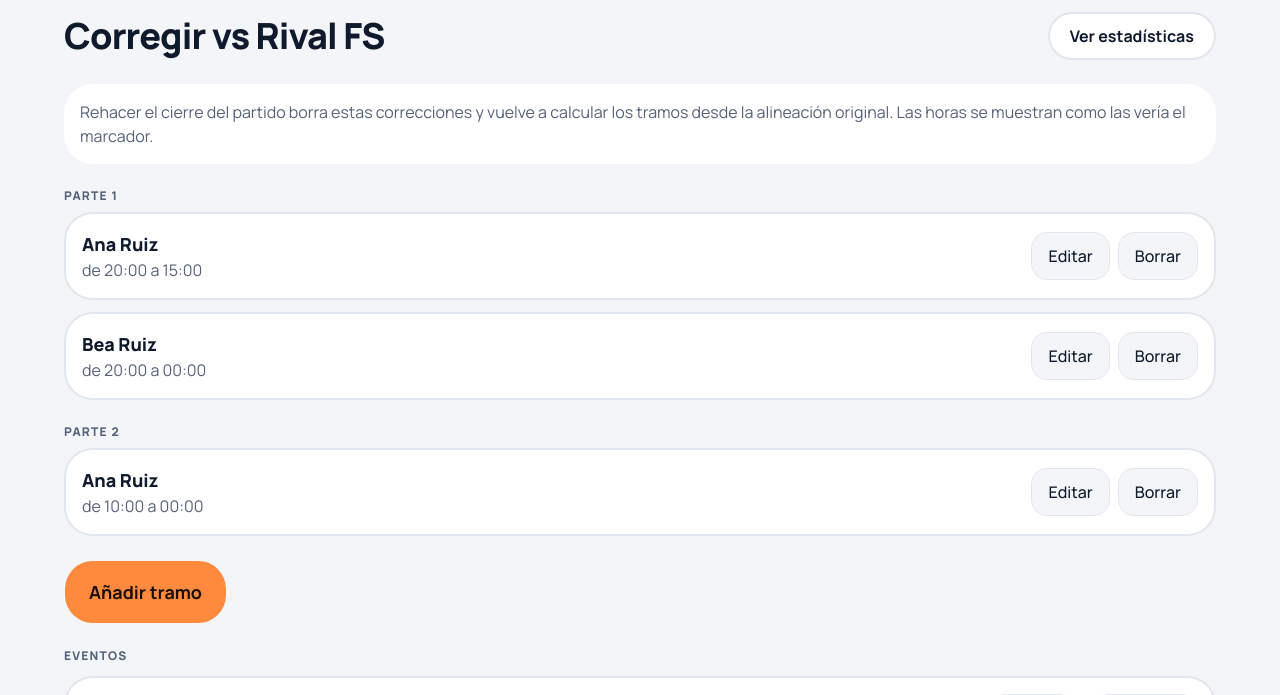
Scenario: CorregirPage › un doble toque en Borrar no confirma el borrado
The width and height of the screenshot is (1280, 695).
Expected: the list named "Tramos de la parte 1" is shown, 64,212 -> 1216,400
Double-click the button with aria-label "Borrar tramo de Ana Ruiz de 20:00 a 15:00": (1158, 256) 1118,232 -> 1198,280
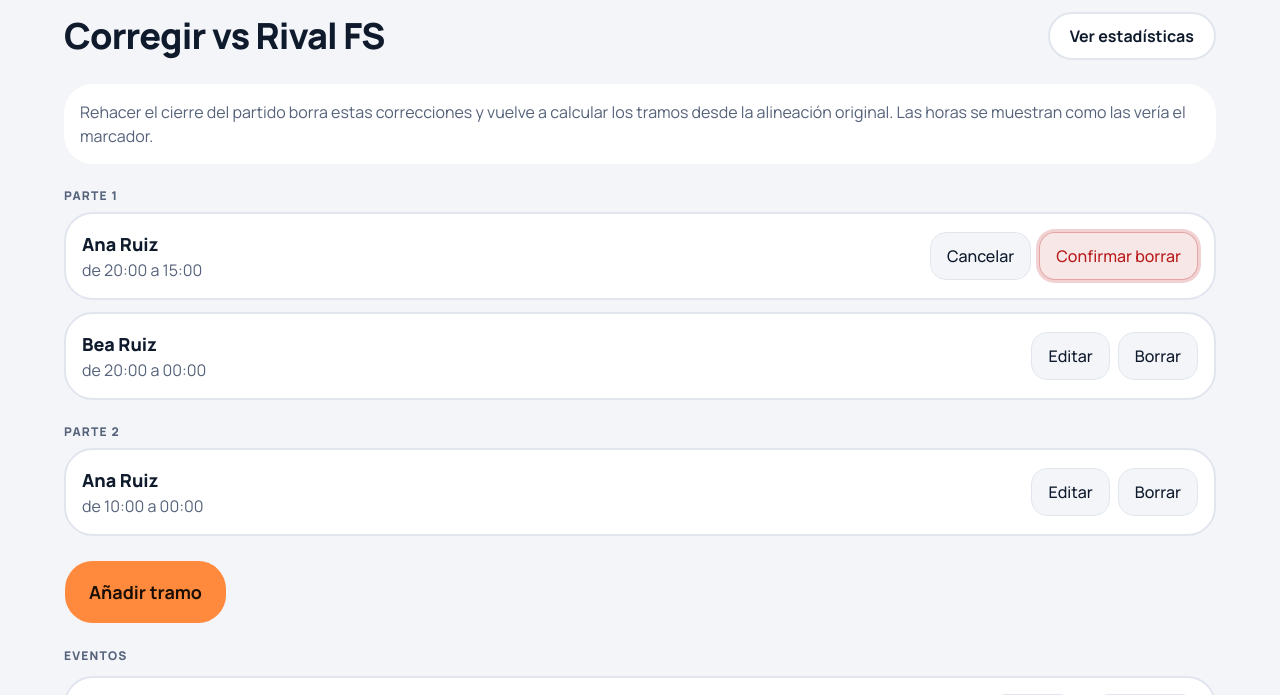
Now the button "Confirmar borrar" is shown, box 1039,232 -> 1198,280
